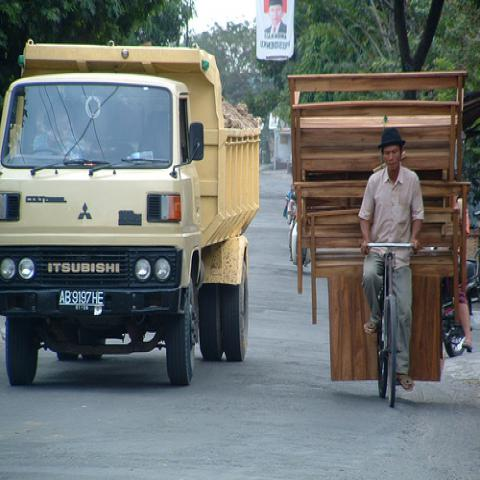motorcycle: (443, 246, 479, 356), (288, 208, 312, 269)
truck: (0, 41, 260, 387)
